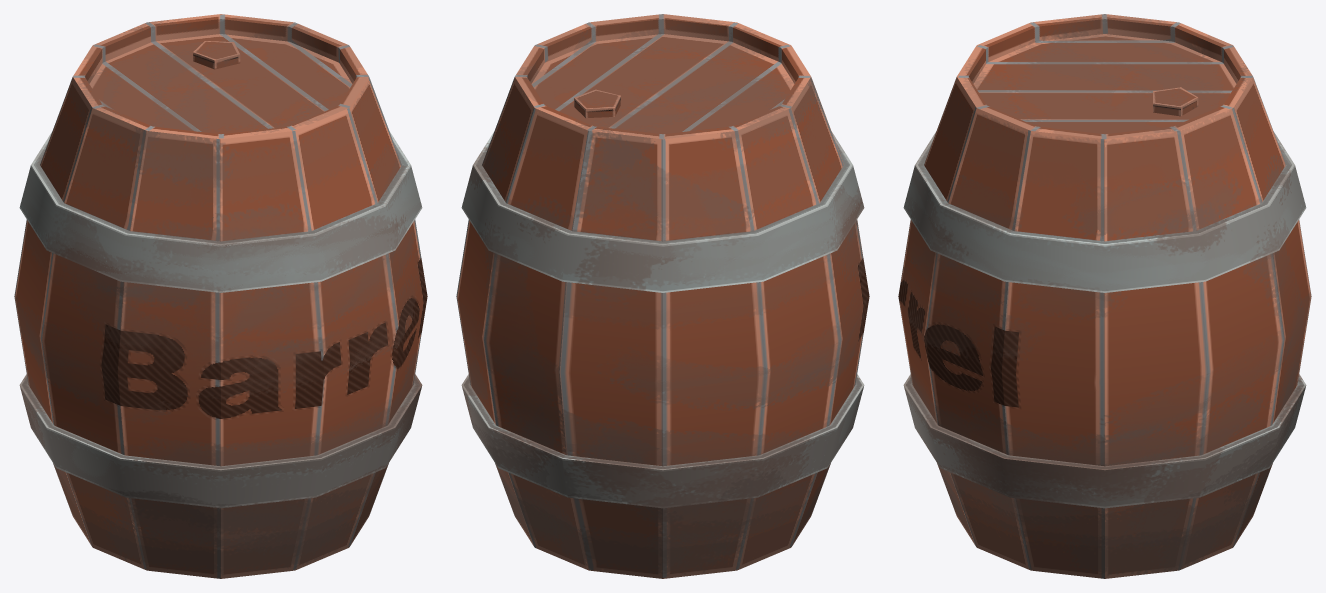
Rendered from Barrel.fbx.
3 renders of one model, left to right at view 1: azimuth 30°, elevation 25°; view 2: azimuth 150°, elevation 25°; view 3: azimuth 270°, elevation 25°, orthographic.
Parts seen in each view (by area): view 1: Barrel_LOD0; view 2: Barrel_LOD0; view 3: Barrel_LOD0.
Boxes of the visible parts, <box> form: Barrel_LOD0: <box>14,14,427,578</box>; Barrel_LOD0: <box>456,14,869,578</box>; Barrel_LOD0: <box>898,14,1311,578</box>.
Size of what is drawn, in the model's own units: 76.65 by 90 by 76.65.
1 material, 1 textured.
